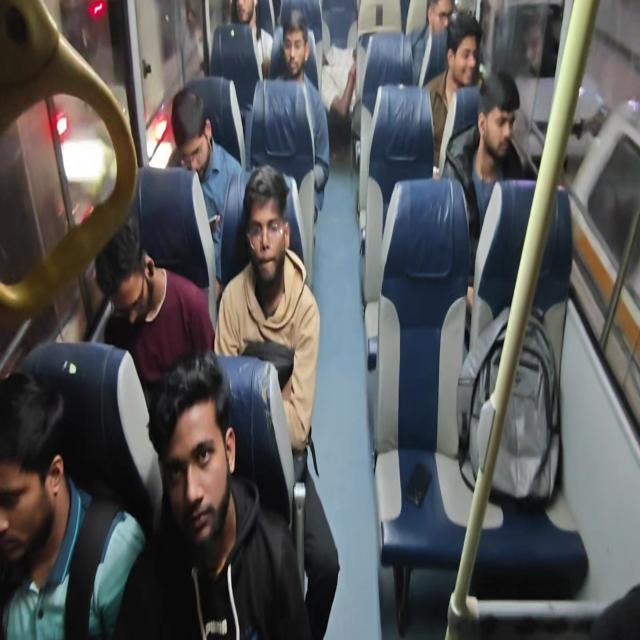person: (214, 164, 340, 638), (113, 349, 312, 639), (0, 370, 146, 639), (440, 70, 523, 342), (94, 214, 215, 392), (250, 10, 330, 214), (169, 87, 243, 289), (422, 11, 483, 178), (411, 0, 455, 86), (273, 10, 318, 91), (232, 0, 273, 82), (514, 14, 556, 78)
